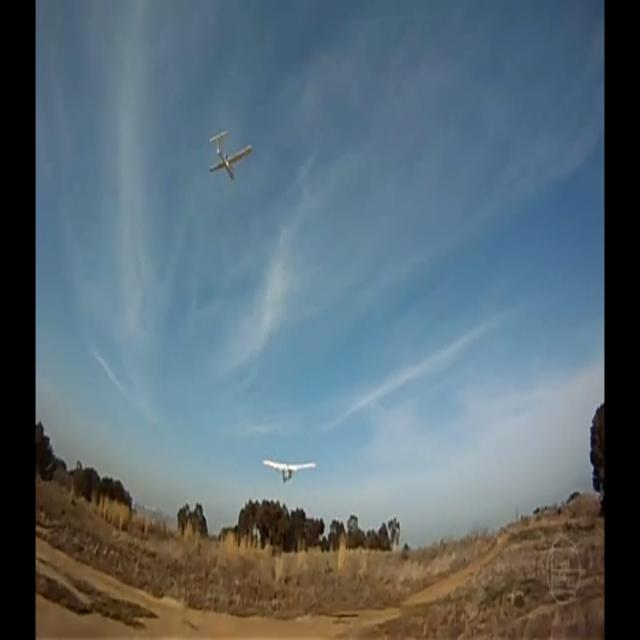iha: (208, 126, 253, 181), (262, 457, 317, 486)
